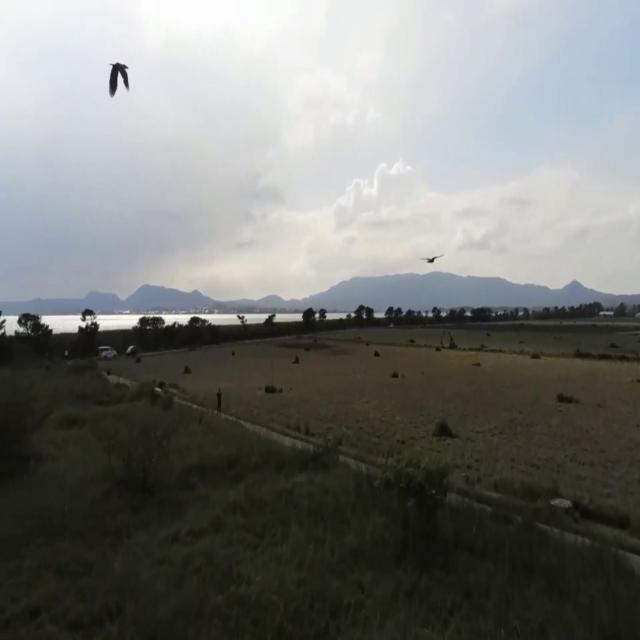bird: (107, 43, 131, 117), (422, 245, 443, 274), (374, 342, 381, 365)
